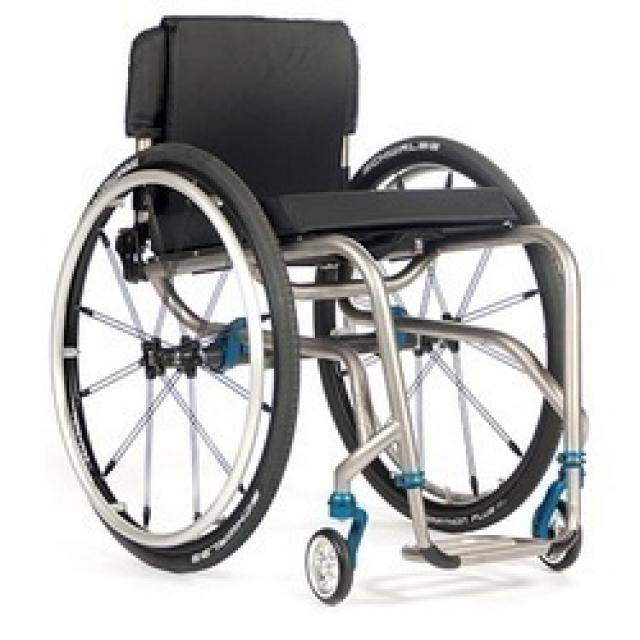wheelchair: (30, 2, 605, 608)
